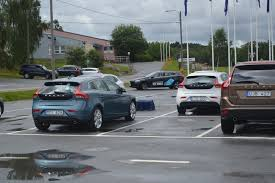car: (29, 74, 138, 130), (218, 60, 275, 132), (174, 69, 220, 113), (129, 69, 185, 88)
